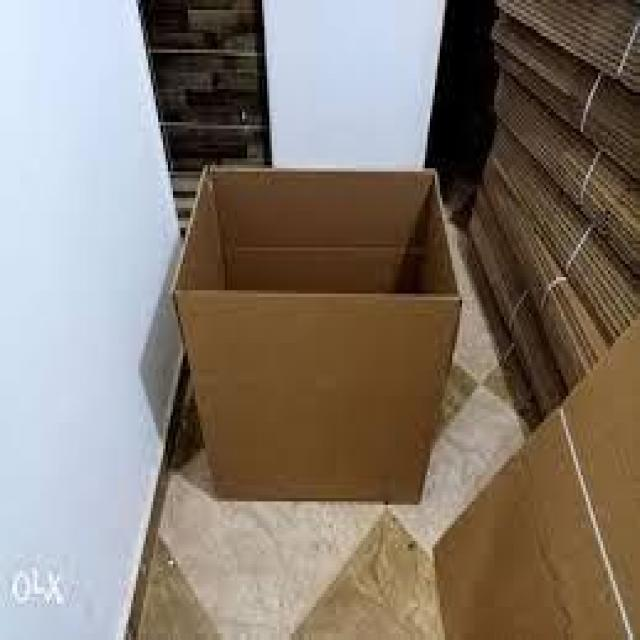box: (182, 162, 465, 516)
